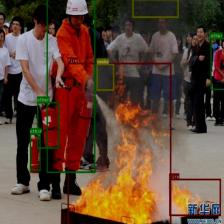fire: (67, 62, 170, 224), (169, 178, 221, 216)
smoke: (132, 0, 178, 18), (96, 64, 114, 90)
